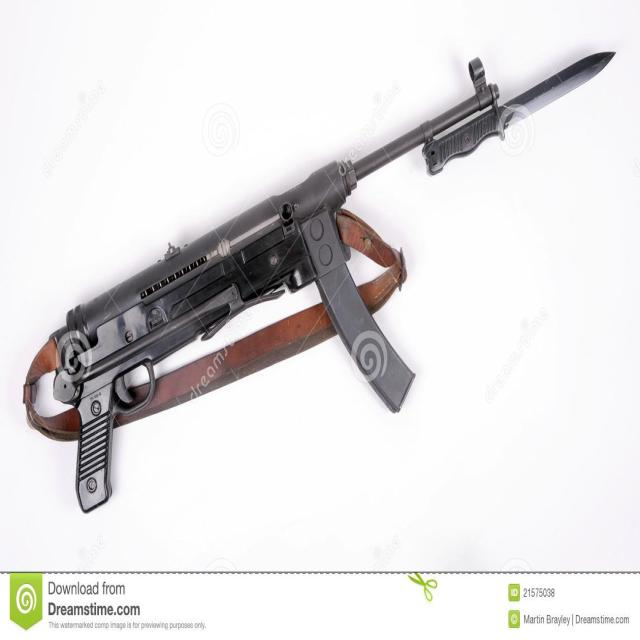weapon: (51, 51, 500, 516), (422, 48, 617, 184)
